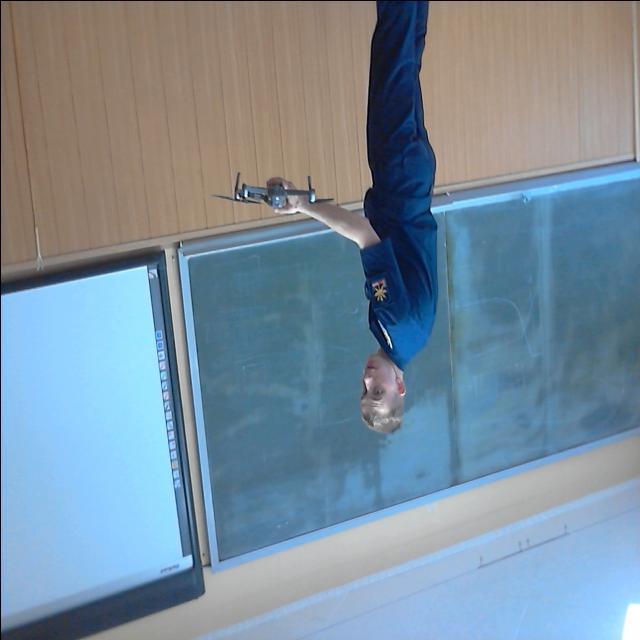drone: (200, 156, 340, 224)
